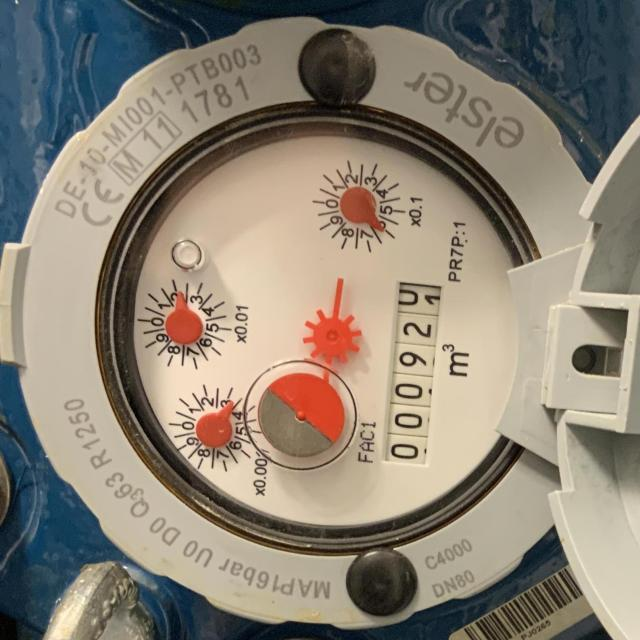gaz_meter: (130, 132, 535, 530)
indication: (383, 278, 444, 465)
